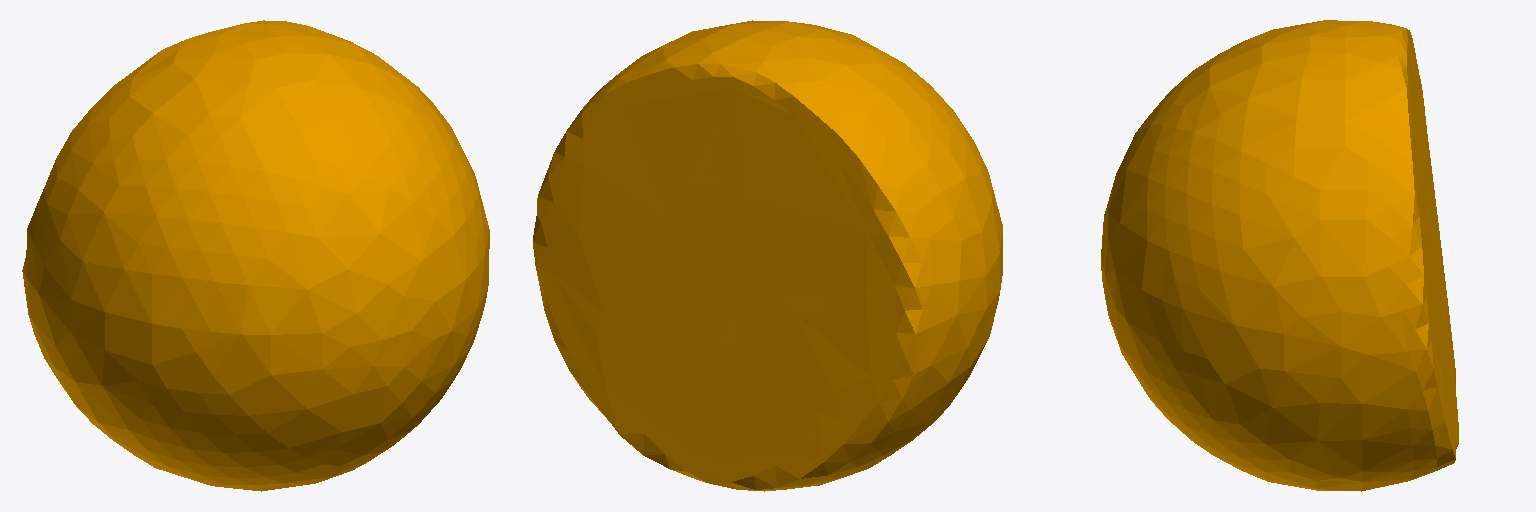
URDF robot description (orange.urdf):
<?xml version="1.0" ?>
<robot name="orange.urdf">
  <link name="baseLink">
    <inertial>
      <origin rpy="0 0 0" xyz="0 0 0"/>
       <mass value="0.1"/>
       <inertia ixx="0" ixy="0" ixz="0" iyy="0" iyz="0" izz="0"/>
    </inertial>
    <visual>
      <origin rpy="0 0 0" xyz="0 0 0"/>
      <geometry>
        <mesh filename="orange.obj" scale="0.1 0.1 0.1"/>
      </geometry>
      <!-- <material name="white">
       <color rgba="1 1 1 1"/>
     </material> -->
    </visual>
    <collision>
      <origin rpy="0 0 0" xyz="0 0 0"/>
      <geometry>
        <mesh filename="orange.obj" scale="0.1 0.1 0.1"/>
        <!-- You could also specify the collision (for the scissors) with a "box" tag: -->
        <!-- <box size=".06 .06 .06"/> -->
      </geometry>
    </collision>
  </link>
</robot>

--- Render facts (derived) ---
Views: 3 orthographic renders of the robot side by side, from view 1: azimuth 30°, elevation 25°; view 2: azimuth 150°, elevation 25°; view 3: azimuth 270°, elevation 25°.
Model orange.urdf with 1 links and 0 joints (none), rooted at baseLink, posed all joints at 0.
Links seen in each view (by area): view 1: baseLink; view 2: baseLink; view 3: baseLink.
Boxes of the visible links, x1=… form: baseLink: x1=22, y1=20, x2=489, y2=491; baseLink: x1=533, y1=20, x2=1002, y2=491; baseLink: x1=1101, y1=20, x2=1458, y2=491.
Bounding box of the posed robot: 2.78 × 2.11 × 2.78 m (x, y, z).
Meshes: 1 distinct files referenced, 1 mesh visuals loaded (1 OBJ).